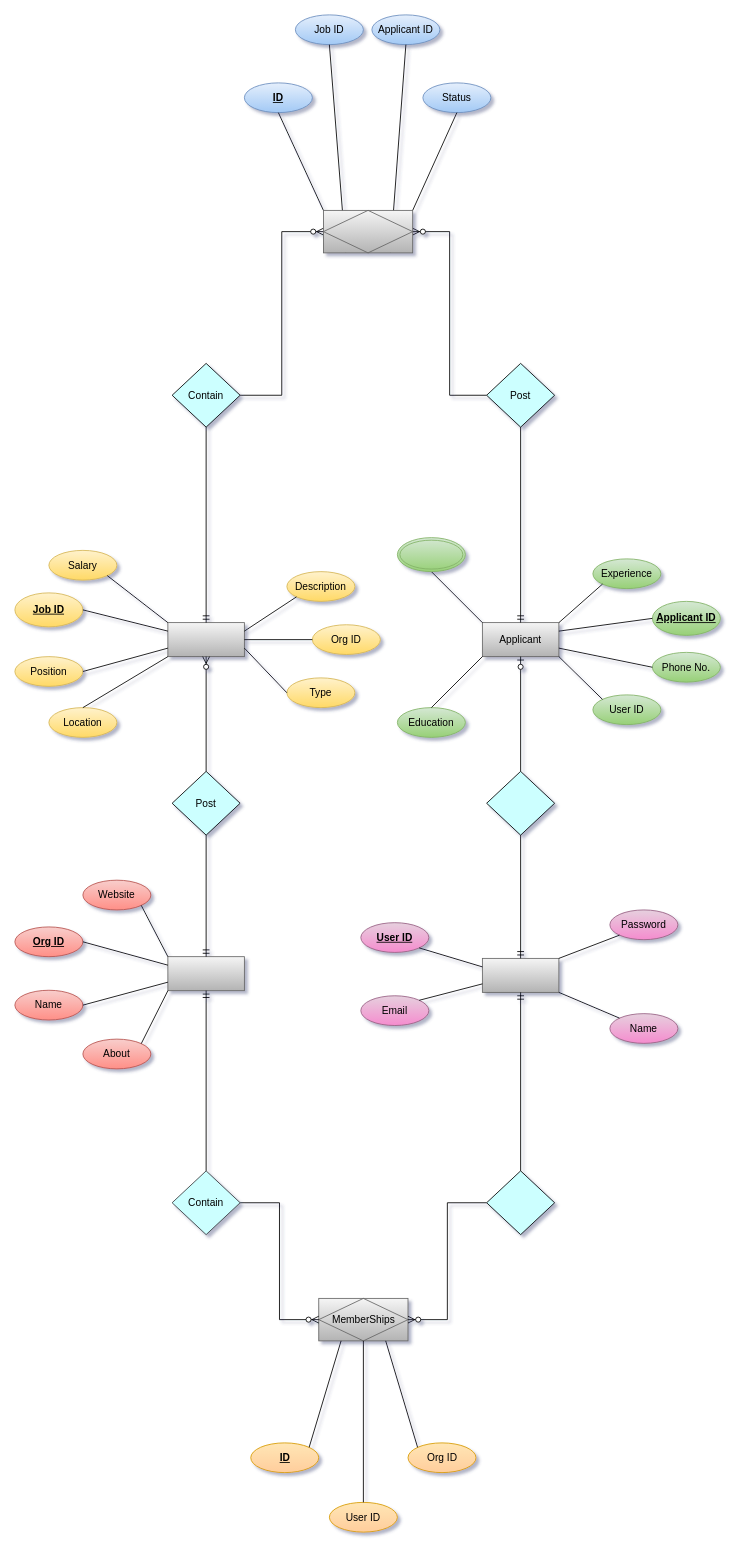
Image size: 740x1552. Some labels were removed from this diagram. Here are the shapes that lost their labels. From the top down, the centre of each, then its label:
the point at 368,231: Applications
the point at 431,554: Skills
the point at 205,639: Job
the point at 520,803: Can be
the point at 205,973: Organization
the point at 520,975: User
the point at 520,1202: Have
